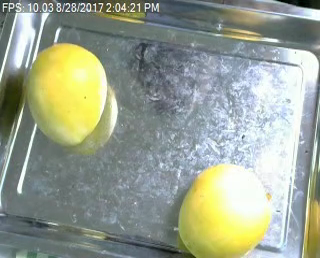Mango: (26, 40, 115, 153), (175, 157, 274, 254)
